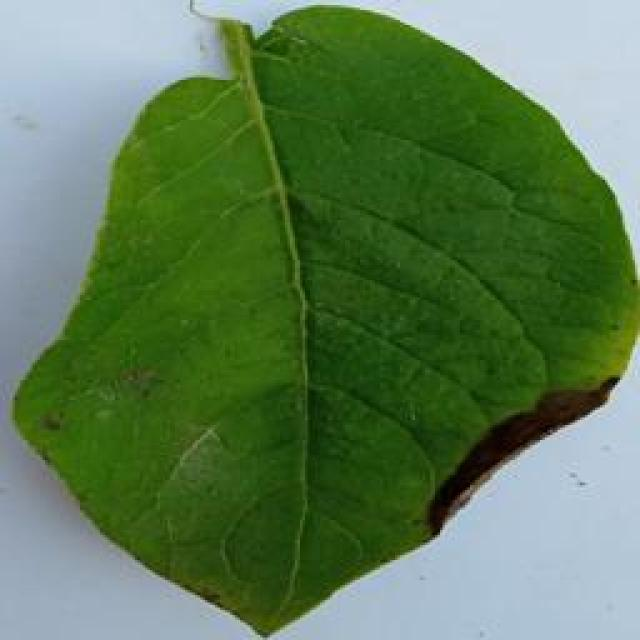Potato_Late_Blight: (13, 8, 626, 634)
